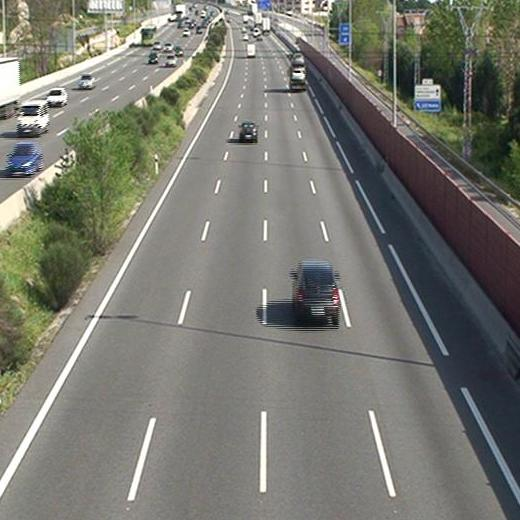car: (292, 262, 339, 319), (239, 121, 258, 140), (291, 67, 305, 81), (292, 52, 303, 66)
van: (246, 44, 255, 57)
